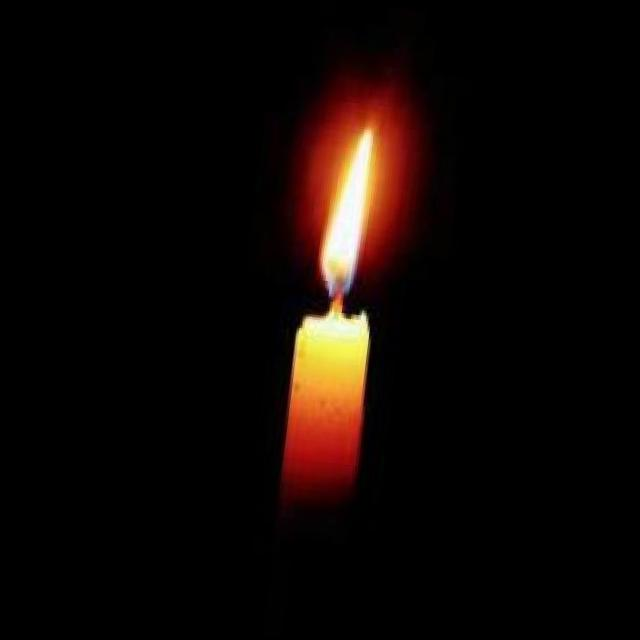Fire: (317, 124, 375, 296)
